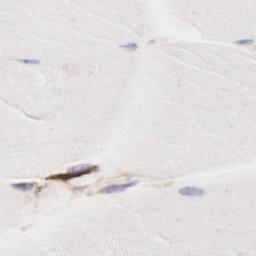nucleus: (99, 181, 139, 194), (177, 186, 206, 195), (66, 163, 90, 172), (10, 183, 34, 191), (14, 58, 40, 65), (118, 42, 138, 50), (234, 39, 256, 45)
positive_cell: (47, 163, 98, 180)
